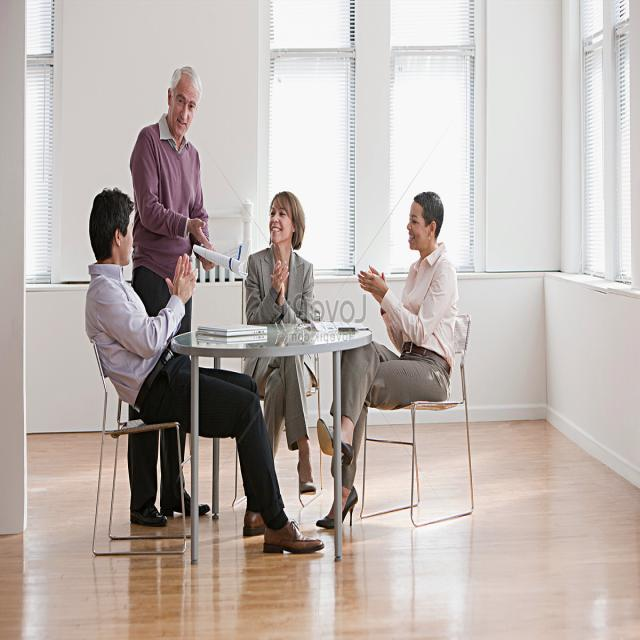adult: (83, 187, 324, 560), (319, 185, 454, 532), (125, 67, 213, 523), (252, 191, 320, 514)
